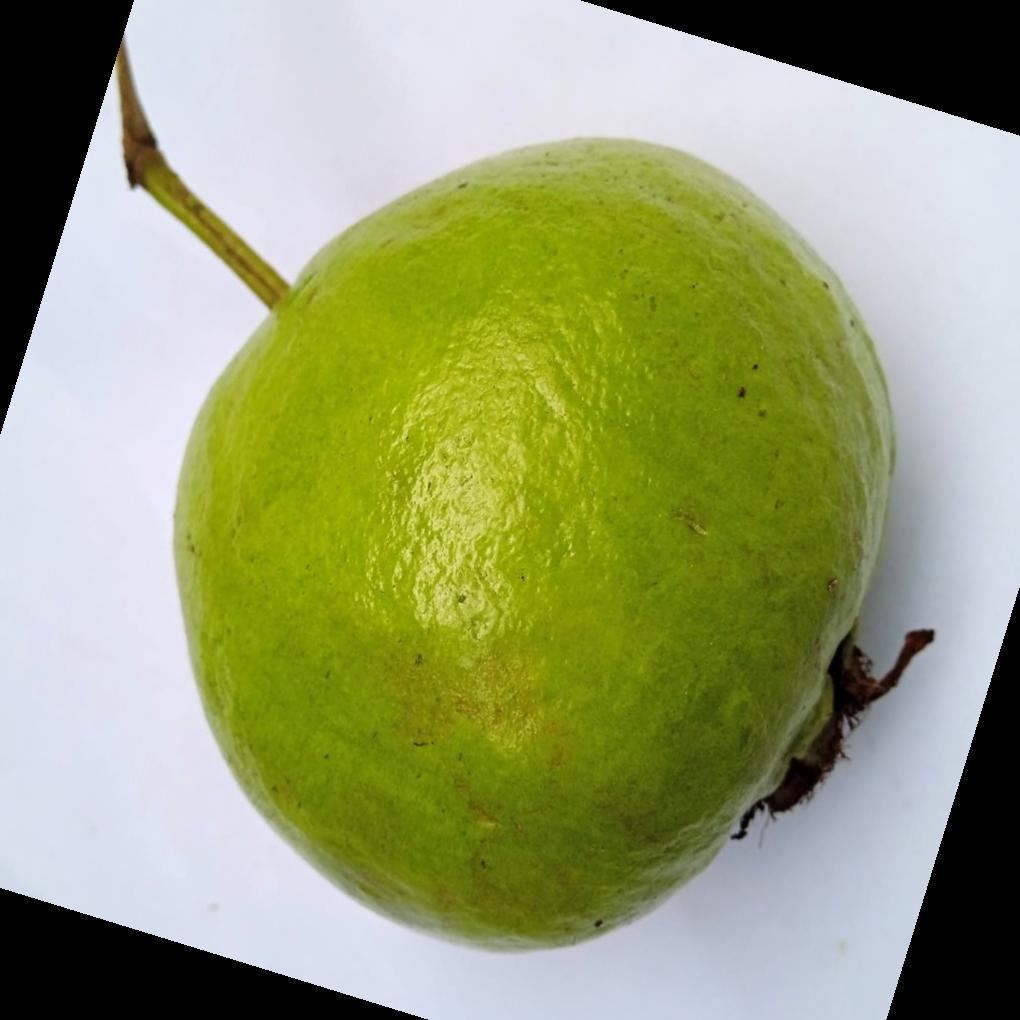FreshGuava: (171, 136, 897, 958)
